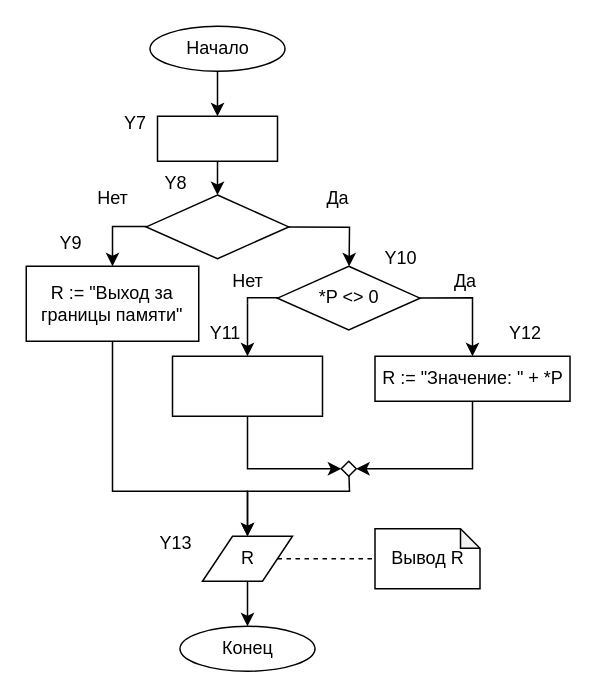
The diagram is 597 pixels wide and 698 high, and some of its shapes have lost their labels. The centre of each missing label's shape, as x and y in pixels:
P := getPtr(): (217,138)
P <> Null: (217,226)
R := "Значение занулено": (246,385)
